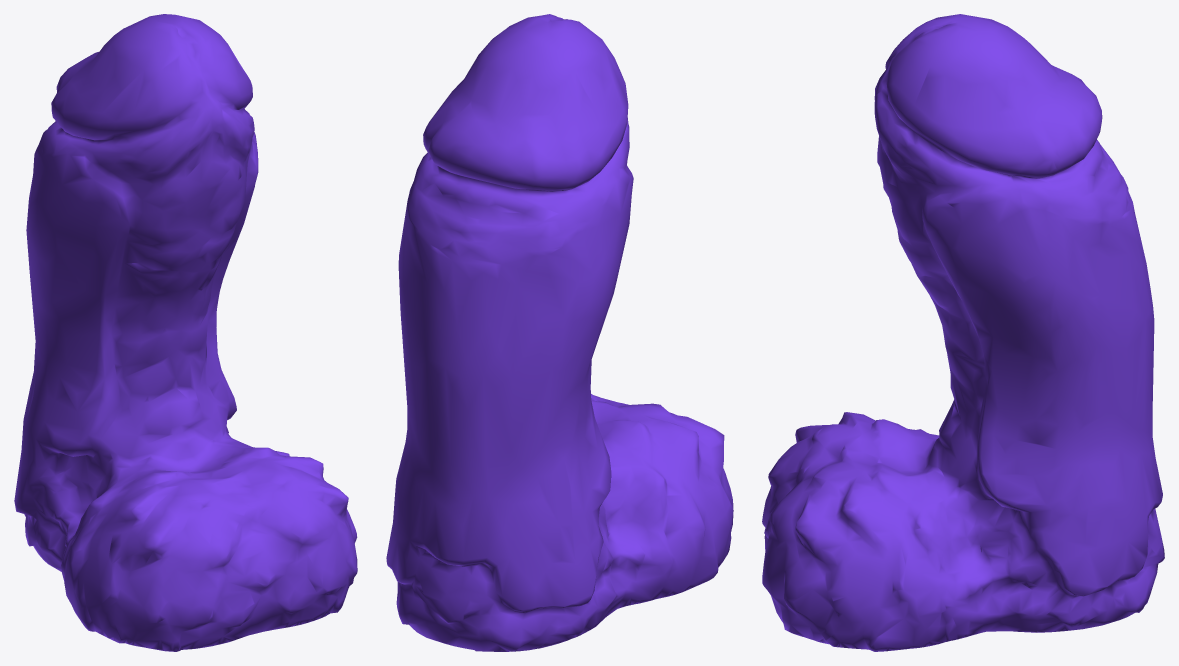
The model's file is medium-suction-ar.glb.
3 renders of one model, left to right at view 1: azimuth 30°, elevation 25°; view 2: azimuth 150°, elevation 25°; view 3: azimuth 270°, elevation 25°, orthographic. The views are drawn at different scales.
Bounding box in the file's own units: 0.1031 × 0.2087 × 0.1339.
